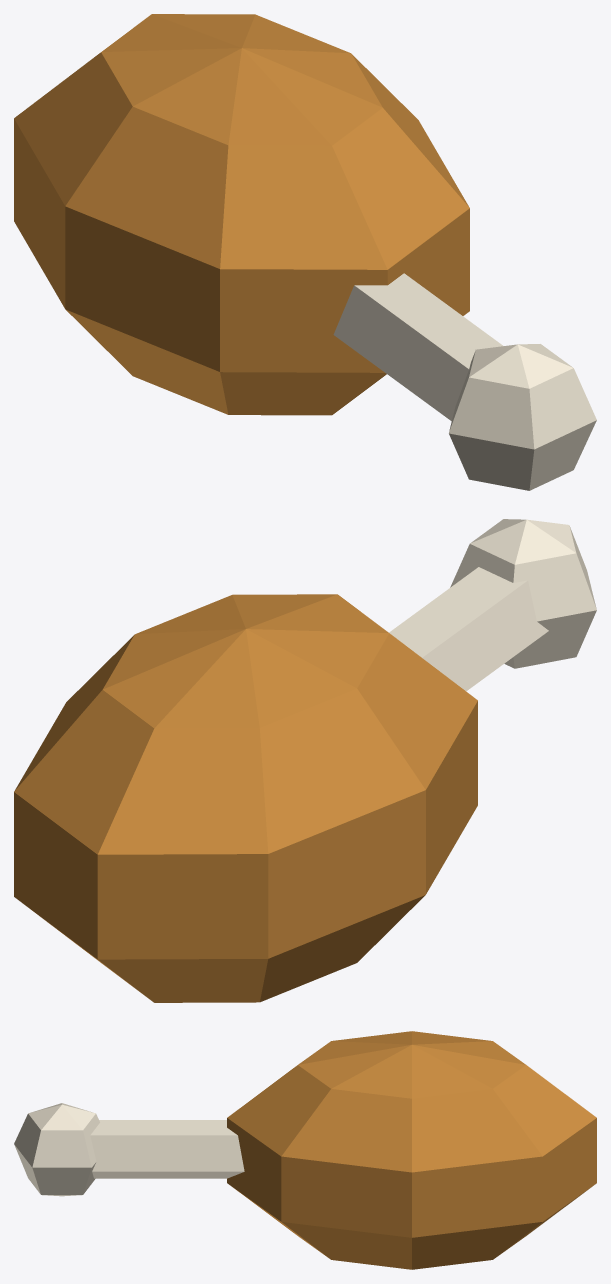
The model's file is prison_chicken.glb.
The picture shows the model from 3 angles, top to bottom: view 1: azimuth 30°, elevation 25°; view 2: azimuth 150°, elevation 25°; view 3: azimuth 270°, elevation 25°; orthographic projection. The views are drawn at different scales.
Visible parts, largest first — view 1: chicken_chicken, chicken_bone; view 2: chicken_chicken, chicken_bone; view 3: chicken_chicken, chicken_bone.
Part boxes in pixels (bbox=[...]): chicken_chicken: bbox=[14, 14, 469, 415]; chicken_bone: bbox=[333, 273, 596, 490]; chicken_chicken: bbox=[14, 594, 477, 1002]; chicken_bone: bbox=[389, 519, 596, 691]; chicken_chicken: bbox=[227, 1031, 596, 1269]; chicken_bone: bbox=[14, 1103, 244, 1196].
Bounding box in the file's own units: 0.0666 × 0.06 × 0.1499.
